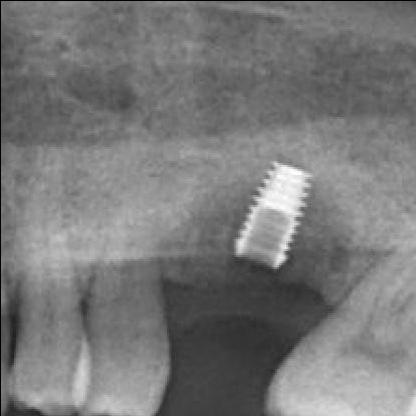Bicon: (224, 155, 315, 273)
